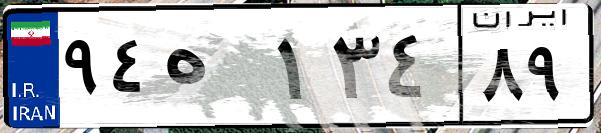1: (270, 28, 330, 110)
3: (330, 28, 385, 110)
4: (385, 28, 445, 110), (110, 28, 158, 98)
8: (475, 38, 525, 113)
9: (57, 26, 110, 100), (525, 38, 570, 115)
ه: (158, 20, 270, 120)
